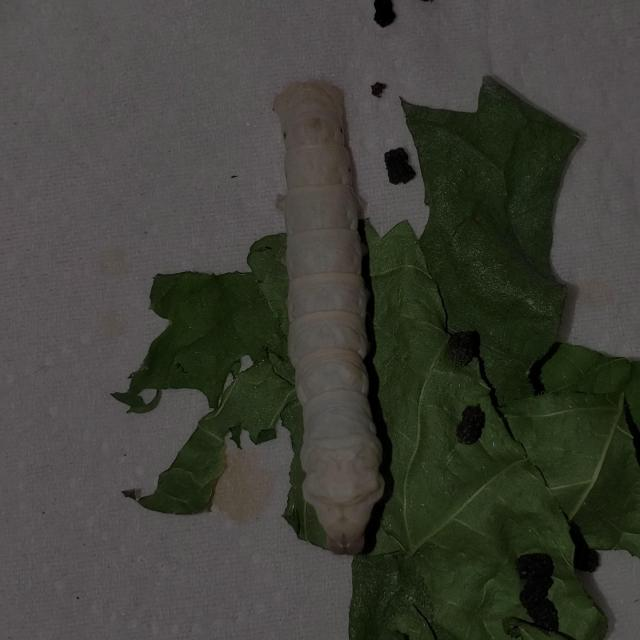Healthy: (239, 58, 433, 572)
